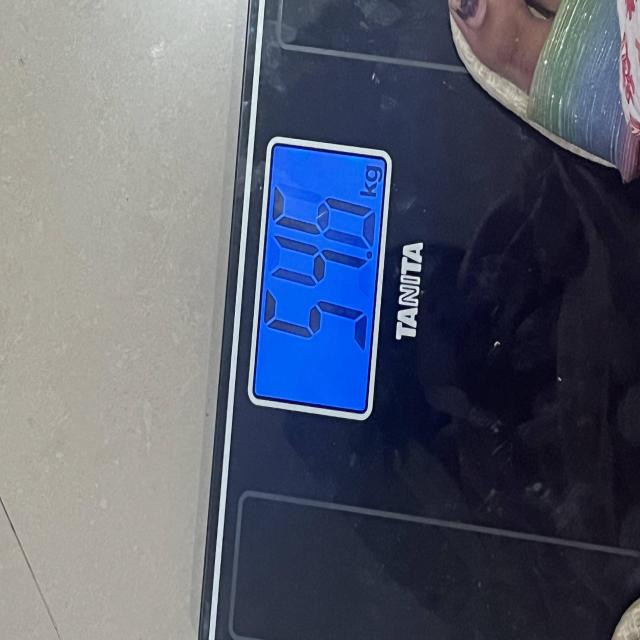ws: (193, 0, 640, 640)
